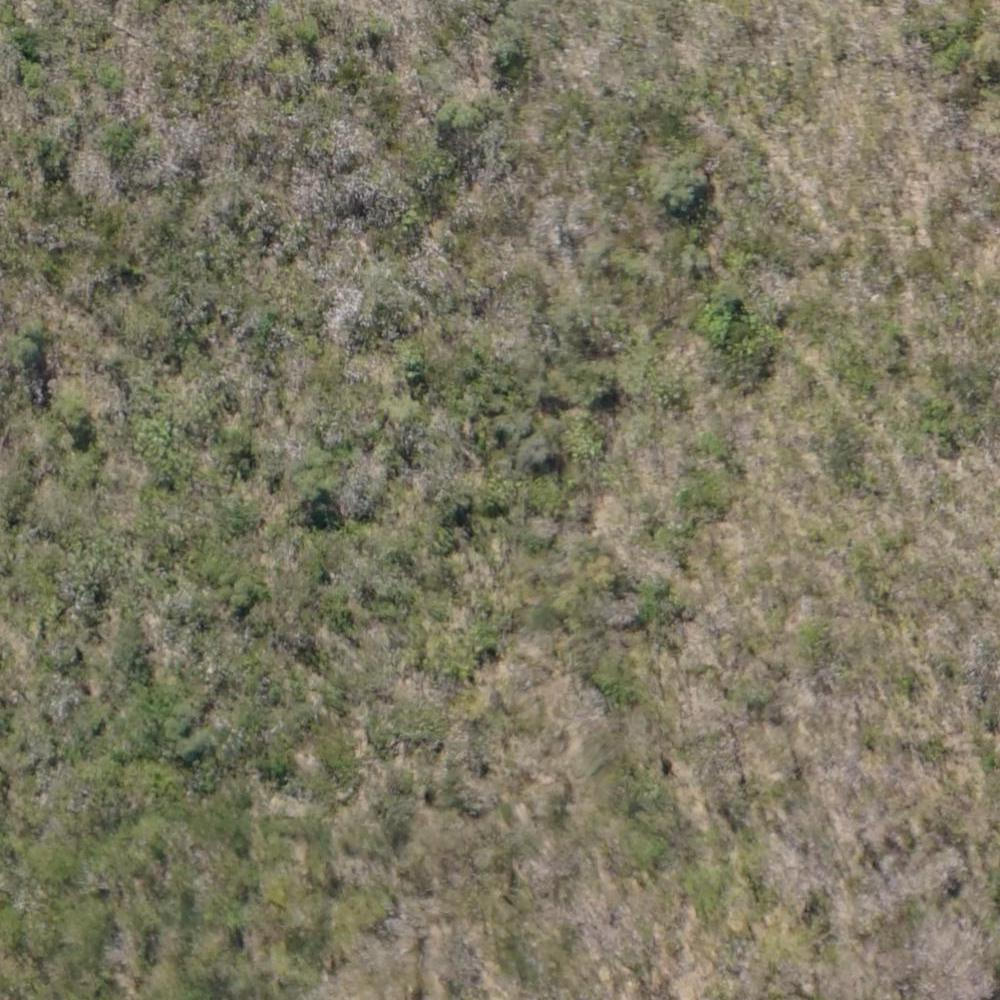tree: (658, 160, 706, 216), (516, 426, 564, 471), (297, 458, 337, 501), (490, 29, 529, 71), (54, 397, 93, 436), (219, 426, 261, 458)
